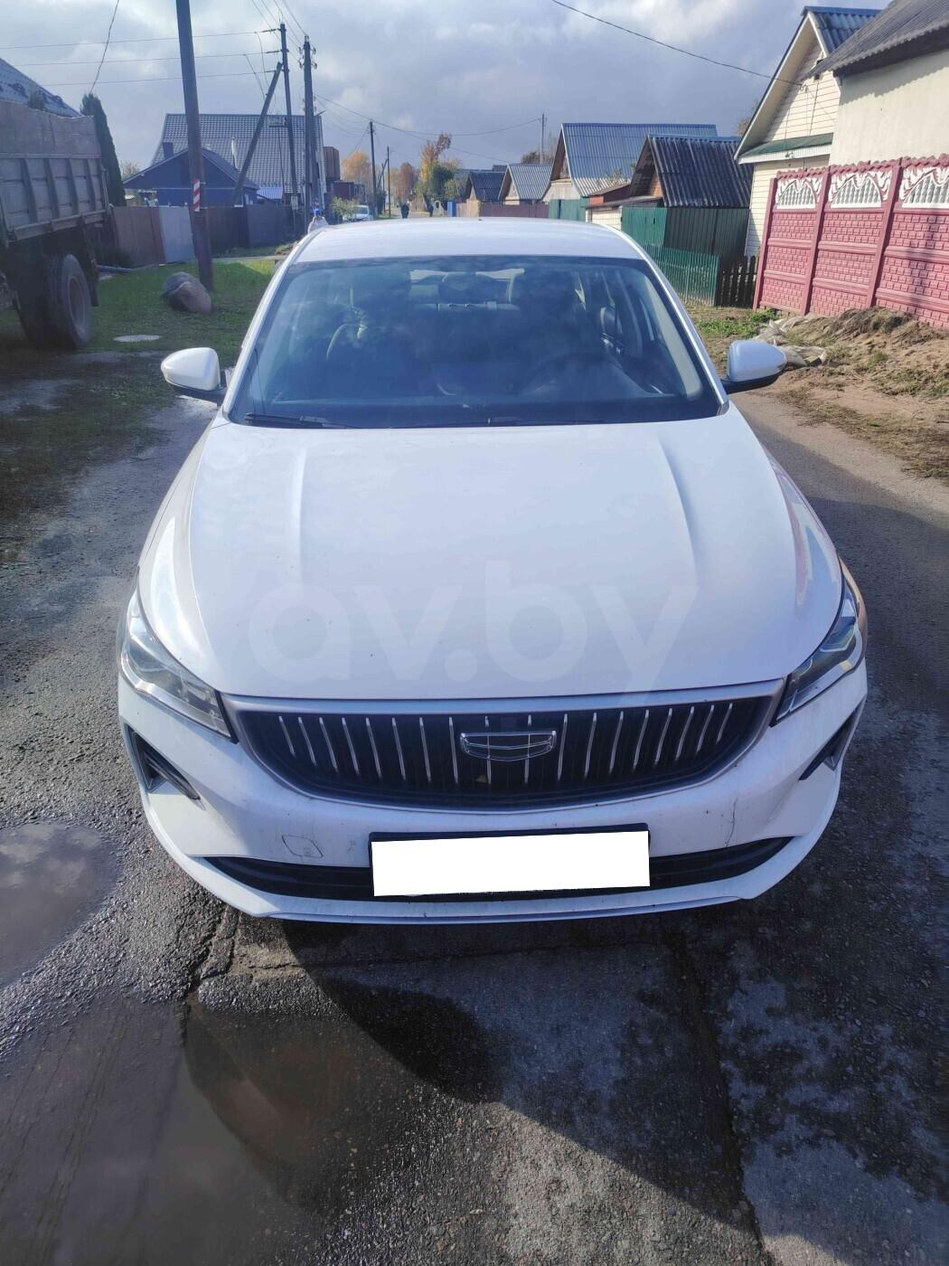Emgrand_2021: (108, 212, 884, 968)
